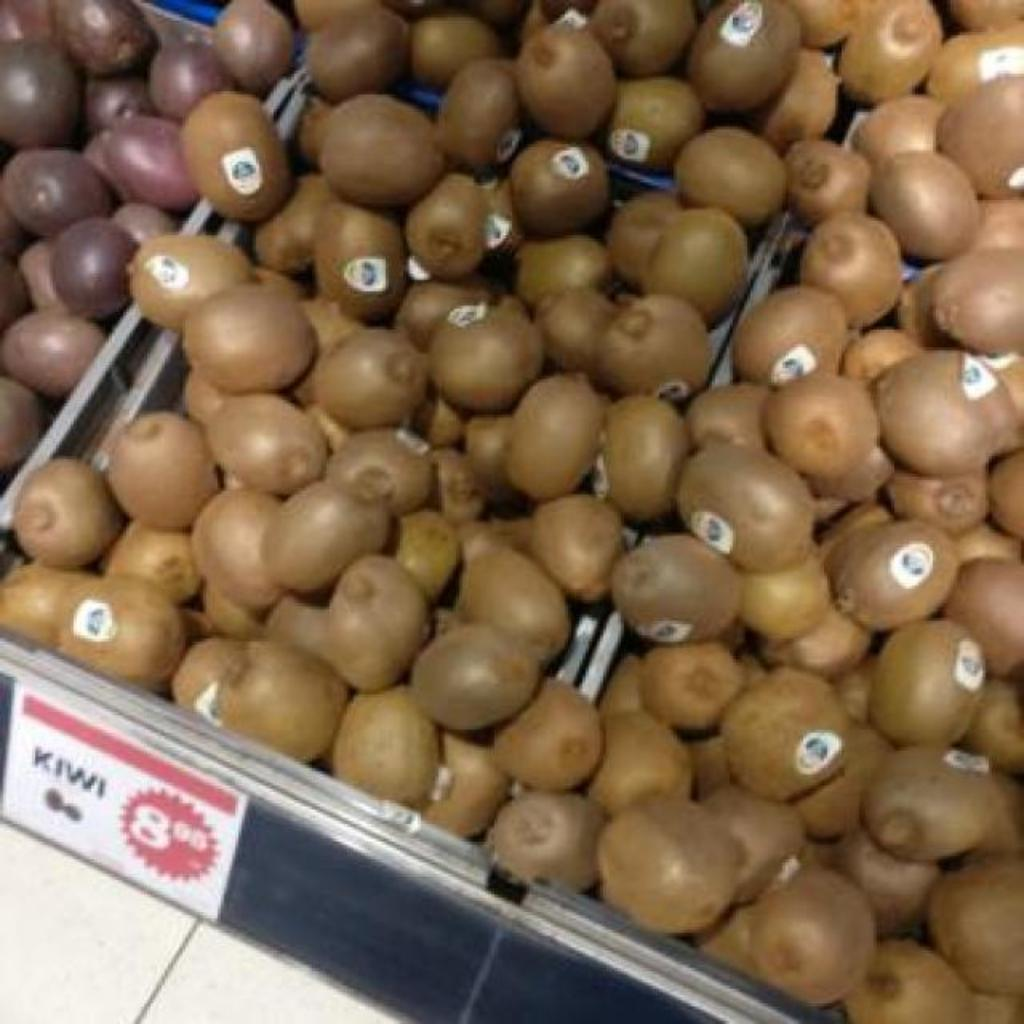kiwi: (598, 802, 740, 933), (876, 352, 1016, 482), (678, 442, 812, 571), (752, 868, 876, 1005), (722, 668, 848, 801), (764, 376, 894, 501), (222, 642, 348, 761), (864, 748, 998, 859), (182, 284, 316, 393), (58, 578, 186, 689), (612, 534, 742, 643), (828, 520, 956, 630), (320, 94, 444, 207), (182, 94, 292, 221), (870, 622, 982, 745), (328, 554, 428, 691), (412, 624, 540, 731), (266, 482, 390, 591), (928, 859, 1024, 993), (334, 686, 440, 805), (688, 0, 800, 111), (112, 412, 218, 529), (508, 374, 606, 499), (460, 550, 570, 661), (492, 680, 602, 791), (430, 302, 540, 411), (702, 784, 804, 901), (14, 458, 122, 567), (206, 396, 324, 495), (872, 152, 980, 259), (642, 210, 746, 321), (674, 126, 788, 227), (800, 212, 900, 327), (130, 234, 250, 329), (794, 726, 894, 839), (486, 794, 602, 891), (602, 294, 708, 399), (312, 332, 426, 429), (314, 204, 408, 321), (840, 828, 940, 937), (838, 0, 942, 103), (194, 490, 282, 611), (736, 290, 848, 385), (520, 24, 612, 139), (846, 942, 974, 1024), (590, 710, 690, 813), (938, 78, 1024, 197), (606, 396, 688, 519), (530, 494, 622, 601), (944, 560, 1024, 676), (934, 251, 1024, 354), (512, 140, 608, 235), (438, 58, 520, 169), (640, 642, 742, 731), (310, 12, 410, 101), (424, 732, 508, 837), (326, 430, 428, 515), (610, 76, 704, 167), (254, 174, 338, 275), (406, 174, 486, 279), (760, 608, 872, 679), (106, 520, 200, 603), (592, 0, 696, 75), (928, 22, 1024, 103), (760, 50, 838, 149), (742, 554, 830, 641), (784, 140, 872, 223), (0, 568, 90, 643), (612, 192, 682, 287), (886, 470, 988, 535), (536, 288, 614, 373), (412, 14, 502, 87), (516, 234, 608, 305), (396, 284, 492, 351), (852, 96, 939, 169), (172, 638, 246, 723), (396, 510, 460, 601), (966, 680, 1024, 773), (466, 416, 520, 507), (690, 386, 767, 449), (842, 328, 922, 379), (435, 450, 484, 523), (480, 178, 522, 251), (990, 450, 1024, 539), (970, 198, 1024, 251), (956, 522, 1022, 563), (600, 656, 642, 717), (186, 370, 232, 425)
